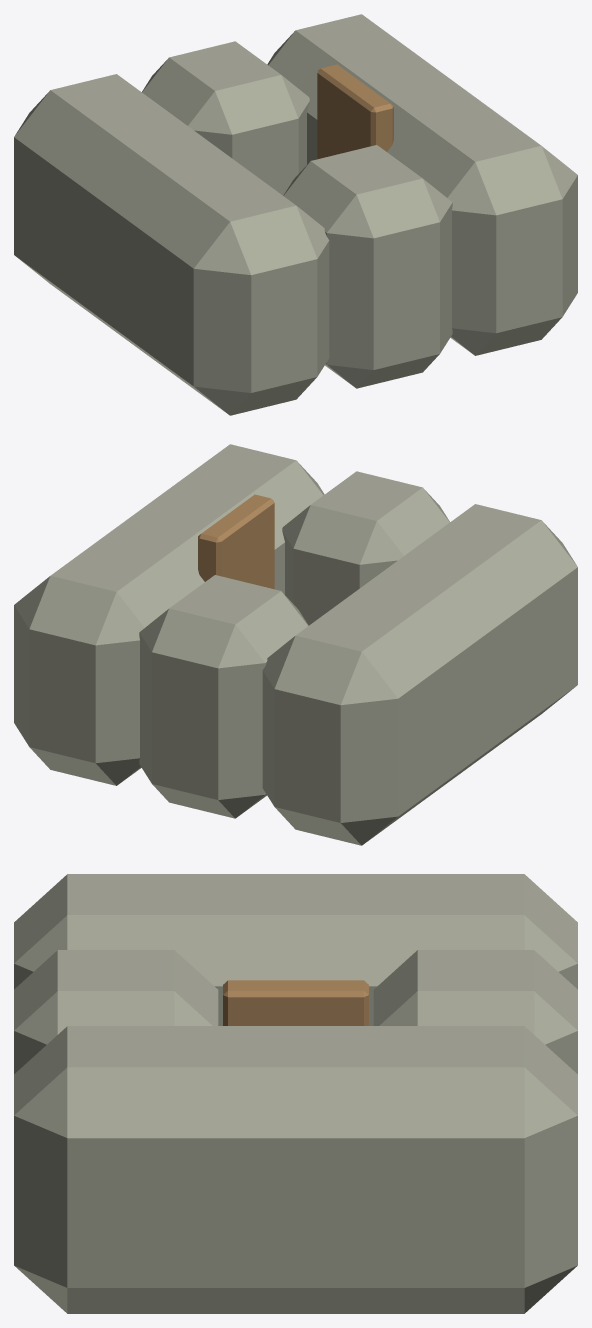
3 views of the same model, one above another, from view 1: azimuth 30°, elevation 25°; view 2: azimuth 150°, elevation 25°; view 3: azimuth 270°, elevation 25° (orthographic). The views are drawn at different scales.
Parts seen in each view (by area): view 1: BA-0009 batched; view 2: BA-0009 batched; view 3: BA-0009 batched.
Part boxes in pixels (x1=…): BA-0009 batched: x1=14, y1=14, x2=577, y2=415; BA-0009 batched: x1=14, y1=444, x2=577, y2=845; BA-0009 batched: x1=14, y1=874, x2=577, y2=1313.
Size of the model in its own units: 0.58 by 0.305 by 0.58.
